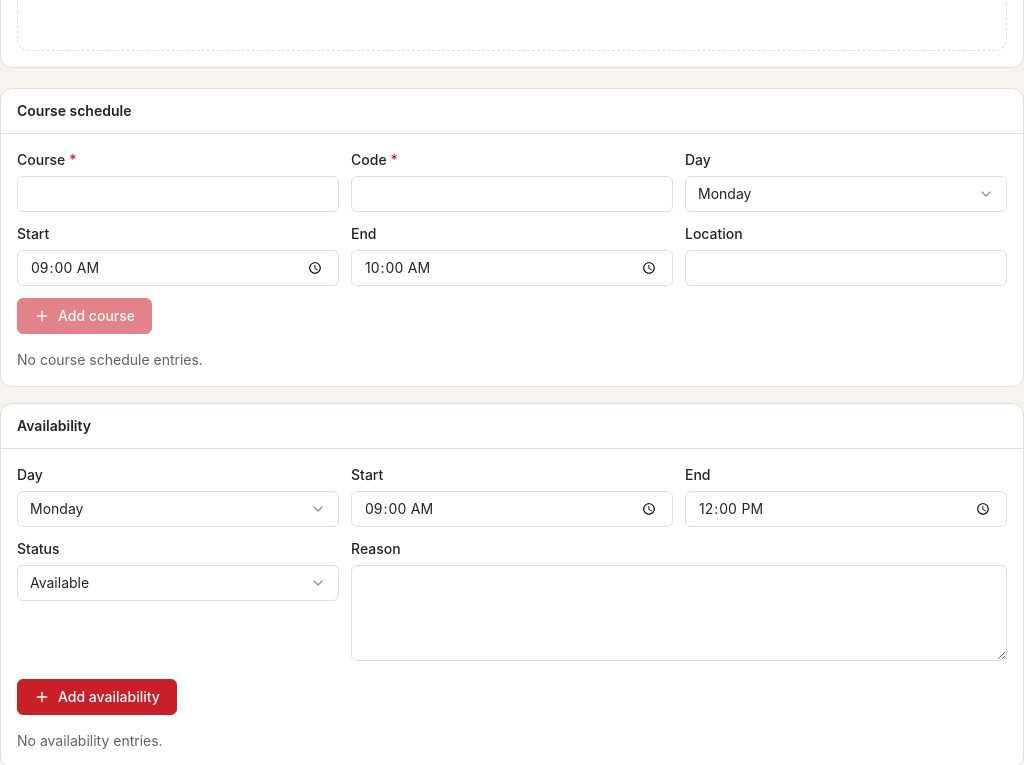
Test: SchedulePage availability workflow › displays validation messages returned by availability create
(page scrolled)
What coordinates should you click on to do the following:
click the button "Add availability"
I would click on:
 (97, 697)
Its box is [17, 679, 177, 715].
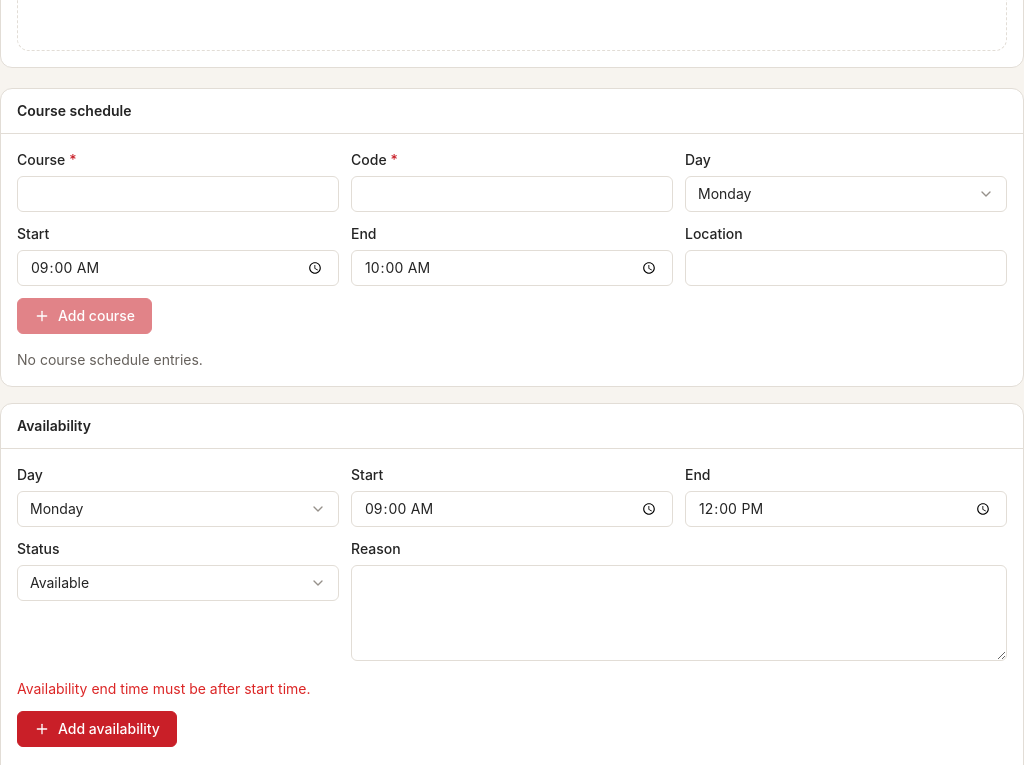
Expected: the message reads "Availability end time must be after start time.", [17, 680, 310, 697]
